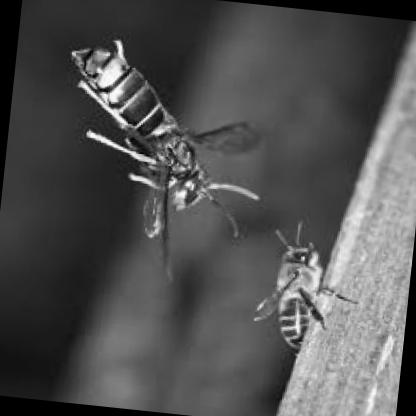asian: (48, 22, 283, 252)
